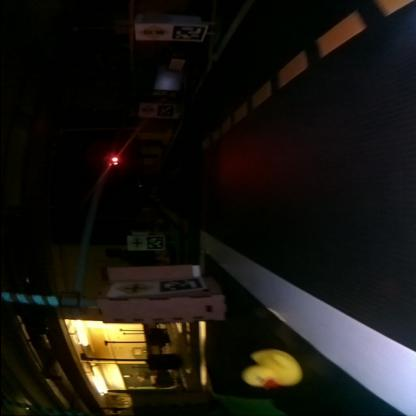Duckie: (241, 349, 301, 386)
Intersection sign: (112, 282, 150, 296), (128, 236, 142, 249)
QR code: (170, 25, 203, 40), (157, 279, 199, 290), (144, 235, 161, 249), (156, 104, 170, 116)
Signal sign: (136, 25, 164, 39), (138, 104, 154, 115)
